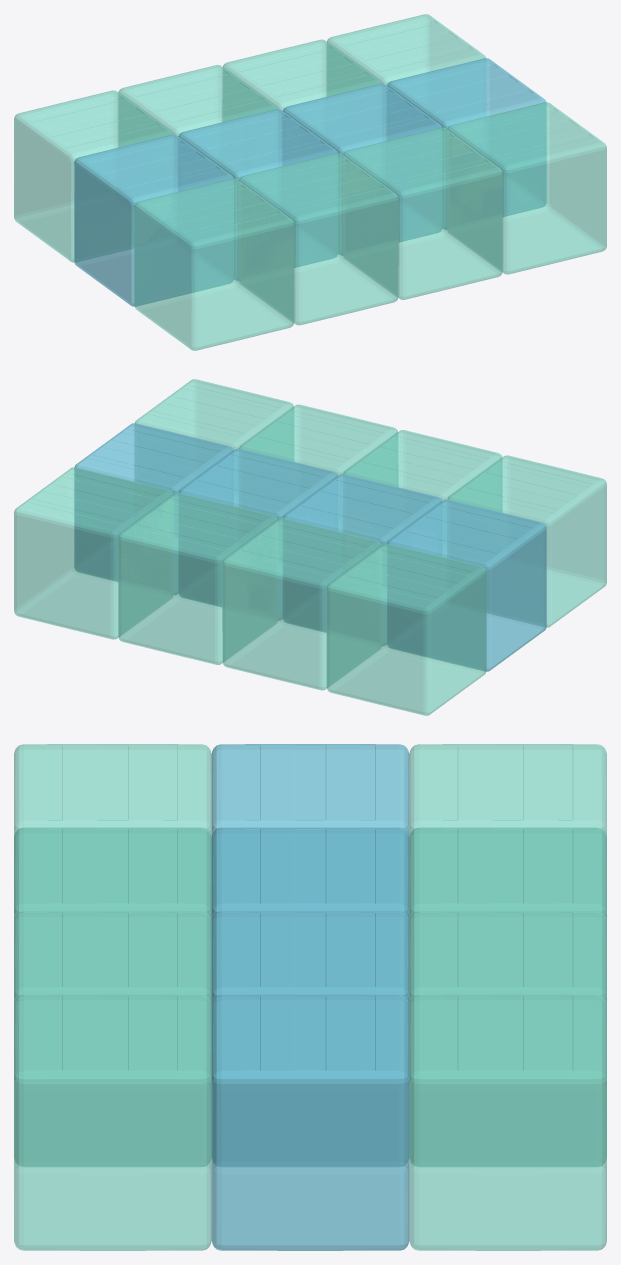
Rendered from ice 4x3_1.fbx.
3 views of the same model, one above another, from view 1: azimuth 30°, elevation 25°; view 2: azimuth 150°, elevation 25°; view 3: azimuth 270°, elevation 25° (orthographic). The views are drawn at different scales.
Visible parts, largest first — view 1: Cube.010, Cube.003, Cube.004; view 2: Cube.004, Cube.003, Cube.010; view 3: Cube.003, Cube.004, Cube.010.
Boxes of the visible parts, x1,y1,x2,y2 form: Cube.010: (134,102,606,350); Cube.003: (74,58,546,306); Cube.004: (14,14,485,262); Cube.004: (14,467,486,715); Cube.003: (74,423,546,671); Cube.010: (135,379,606,627); Cube.003: (211,744,409,1250); Cube.004: (409,744,606,1250); Cube.010: (14,744,211,1250).
Bounding box in the file's own units: 1600 × 400 × 1200.
